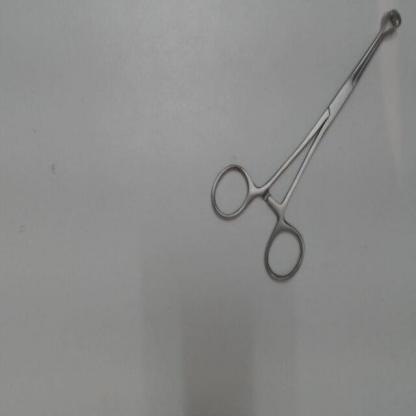Babcock Tissue Forceps: (204, 3, 406, 286)
